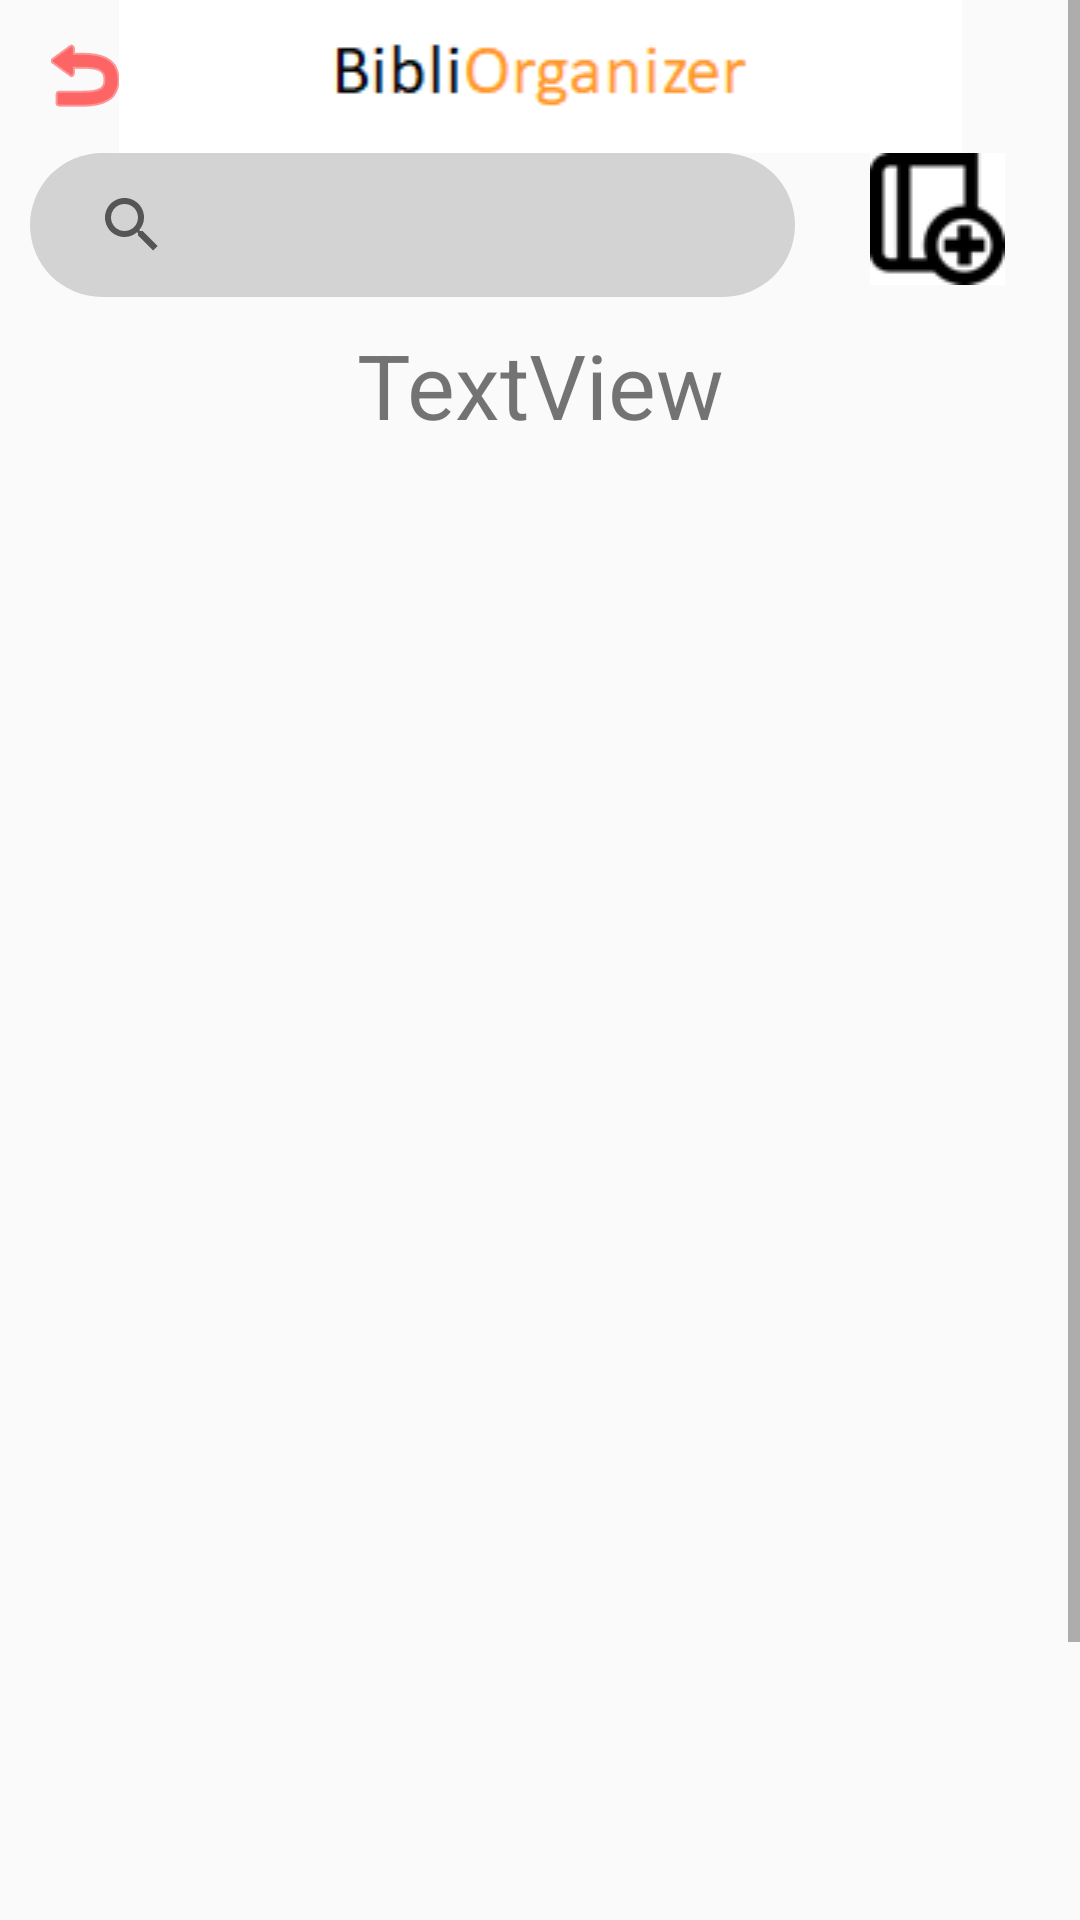

Where icons sit on this 1080 x 1920 app screen, as (x1, y1, x2, y2):
Agregar nuevo libro: (870, 153, 1005, 285)
